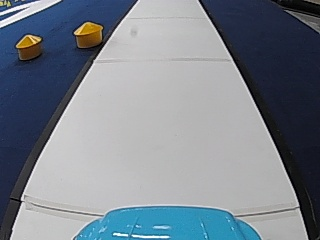granary: (71, 19, 103, 48), (14, 31, 42, 59)
